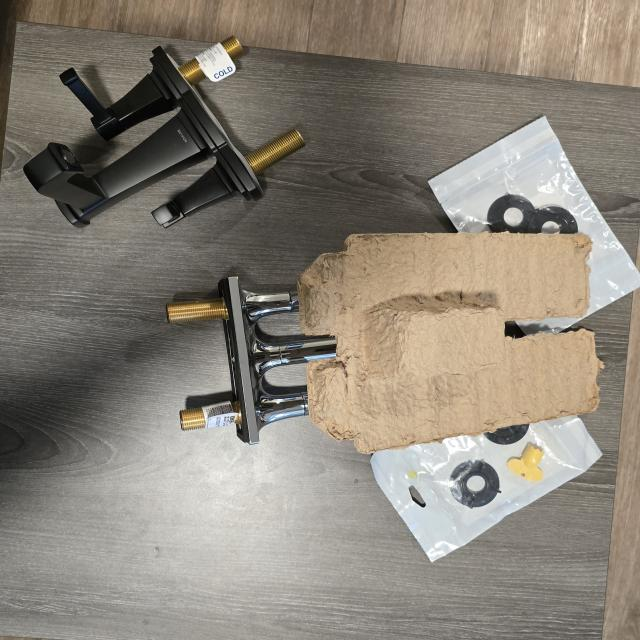10o: (167, 277, 336, 444)
12o: (371, 416, 601, 561)
13o: (429, 117, 640, 316)
9: (24, 36, 305, 227)
